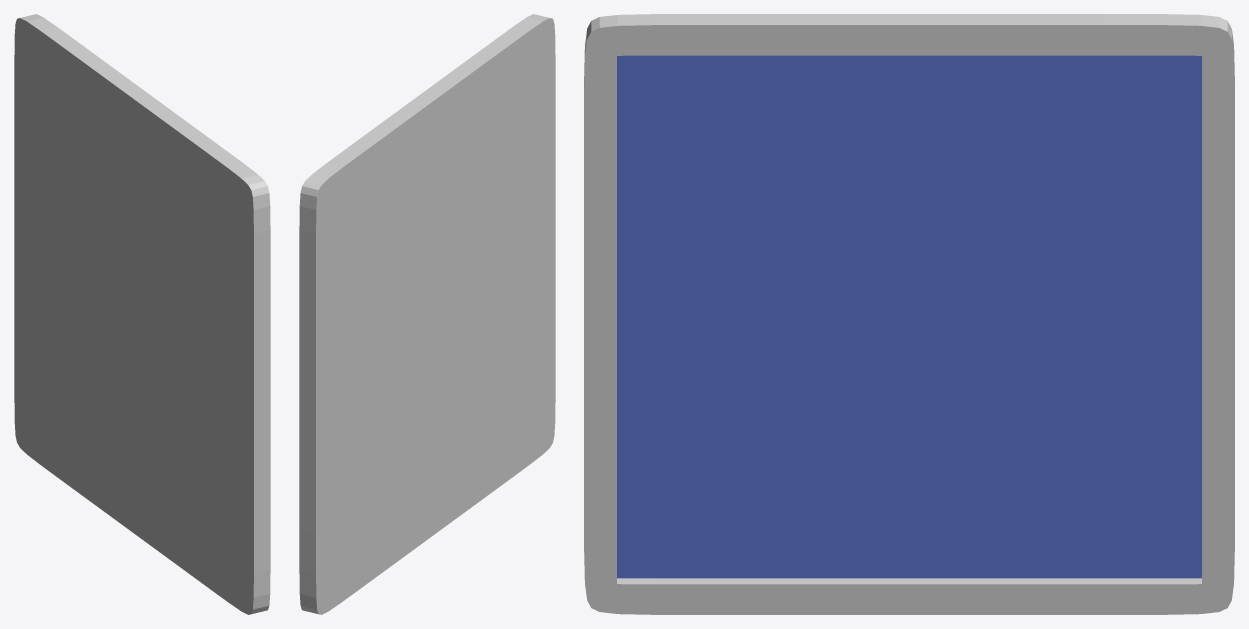
The model's file is virtualScreen.fbx.
The picture shows the model from 3 angles, left to right: view 1: azimuth 30°, elevation 25°; view 2: azimuth 150°, elevation 25°; view 3: azimuth 270°, elevation 25°; orthographic projection. The views are drawn at different scales.
Visible parts, largest first — view 1: Cube; view 2: Cube; view 3: Cube.
Part boxes in pixels (box(x1,y1,x2,y2)): Cube: box(14, 14, 270, 614); Cube: box(299, 14, 555, 614); Cube: box(584, 14, 1234, 614).
Bounding box in the file's own units: 8 × 200 × 200.
